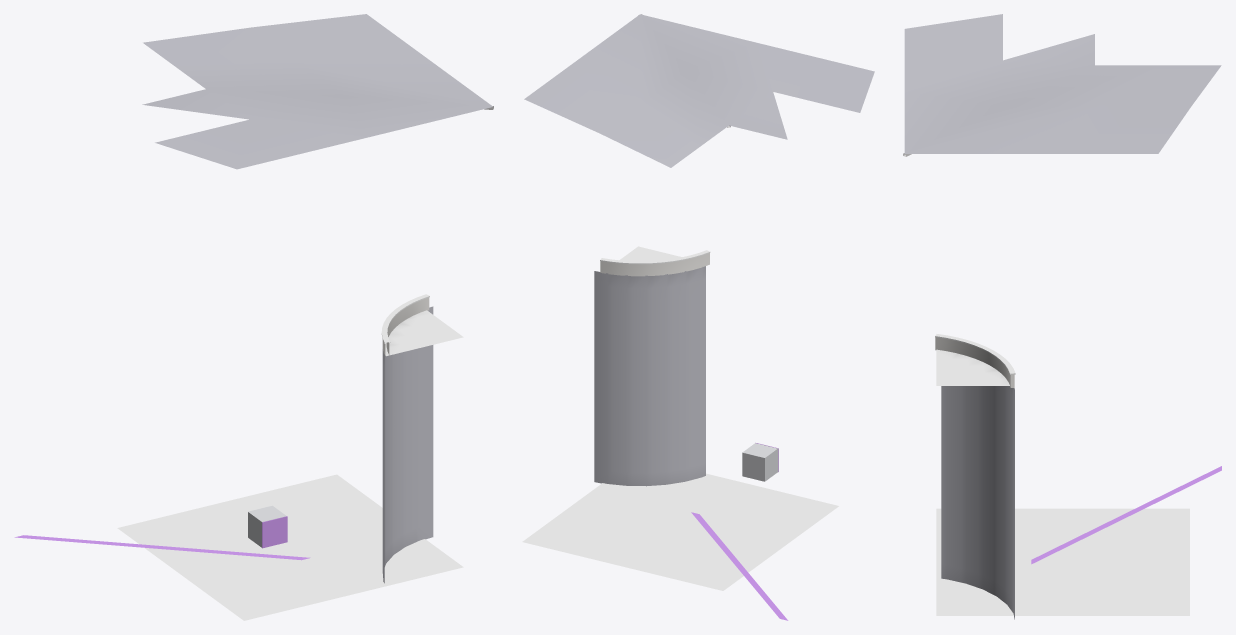
Rendered from crypt_09_am.glb.
3 views of the same model, side by side, from view 1: azimuth 30°, elevation 25°; view 2: azimuth 150°, elevation 25°; view 3: azimuth 270°, elevation 25° (orthographic). The views are drawn at different scales.
Parts seen in each view (by area): view 1: crypt_09_am; view 2: crypt_09_am; view 3: crypt_09_am.
Boxes of the visible parts, x1,y1,x2,y2 form: crypt_09_am: [14, 14, 493, 620]; crypt_09_am: [522, 14, 874, 620]; crypt_09_am: [903, 14, 1221, 619].
Size of the model in its own units: 23.43 by 32.65 by 20.09.
